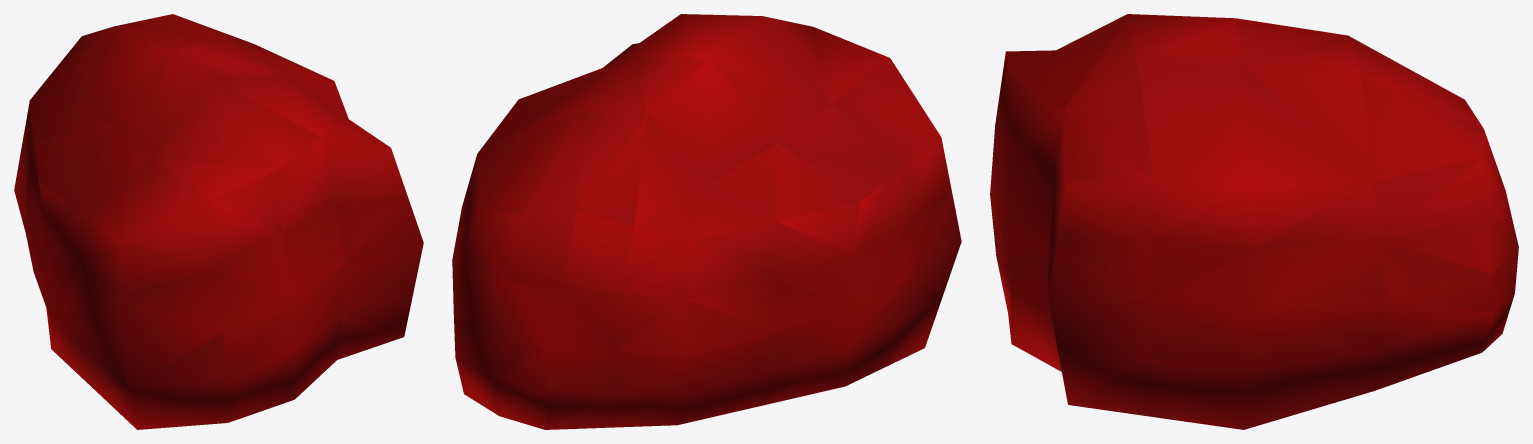
Rendered from geology-pebbles-sandchunk_v7.fbx.
The picture shows the model from 3 angles, left to right: view 1: azimuth 30°, elevation 25°; view 2: azimuth 150°, elevation 25°; view 3: azimuth 270°, elevation 25°; orthographic projection. The views are drawn at different scales.
Parts seen in each view (by area): view 1: SandChunk_v7; view 2: SandChunk_v7; view 3: SandChunk_v7.
Part boxes in pixels (x1,y1,x2,y2): SandChunk_v7: [14, 14, 423, 429]; SandChunk_v7: [452, 14, 961, 429]; SandChunk_v7: [990, 14, 1518, 429].
Bounding box in the file's own units: 5.98 × 5.33 × 7.7.
